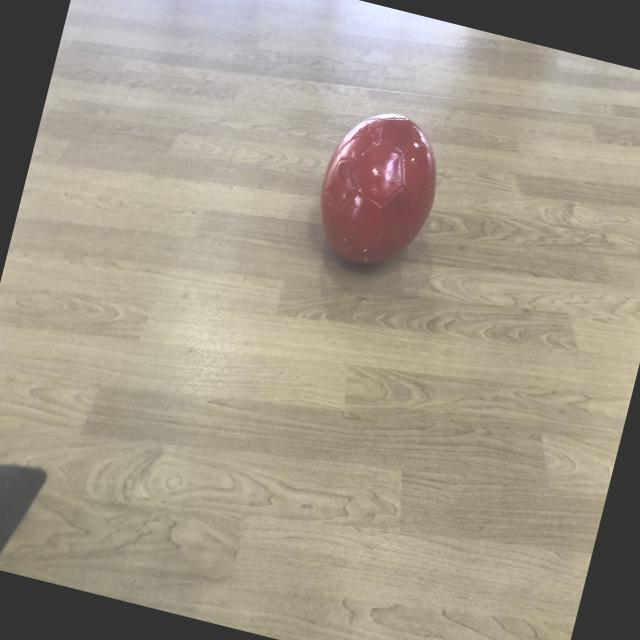red_ball: (306, 100, 452, 280)
